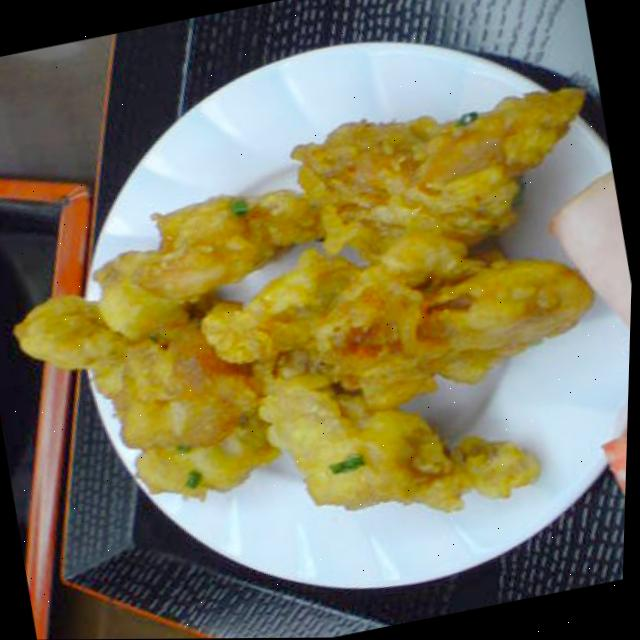鸡肉料理 含炸鸡: (0, 22, 639, 613)
